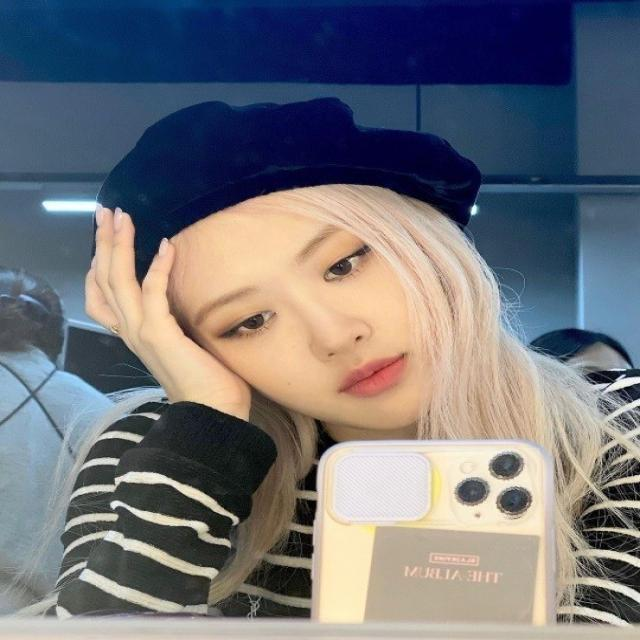Mobile: (314, 431, 559, 622)
